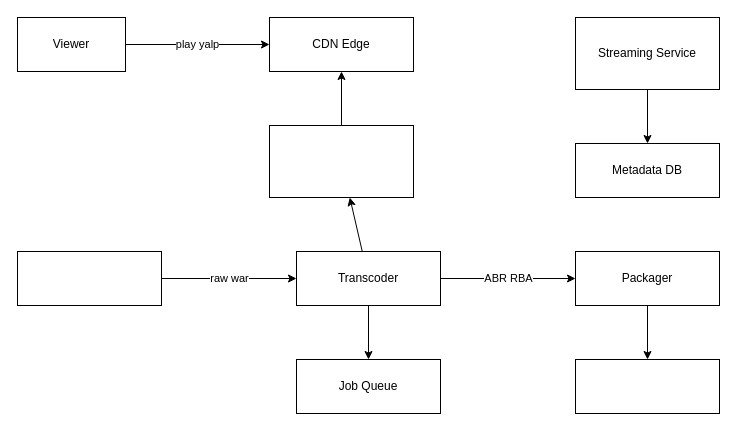
This 737x431 diagram has some shape labels left out. The centre of each missing label's shape, as x and y in pixels:
"HLS / DASH" goes at [647,386].
"Origin Storage" goes at [341,161].
"Uploader" goes at [89,278].
